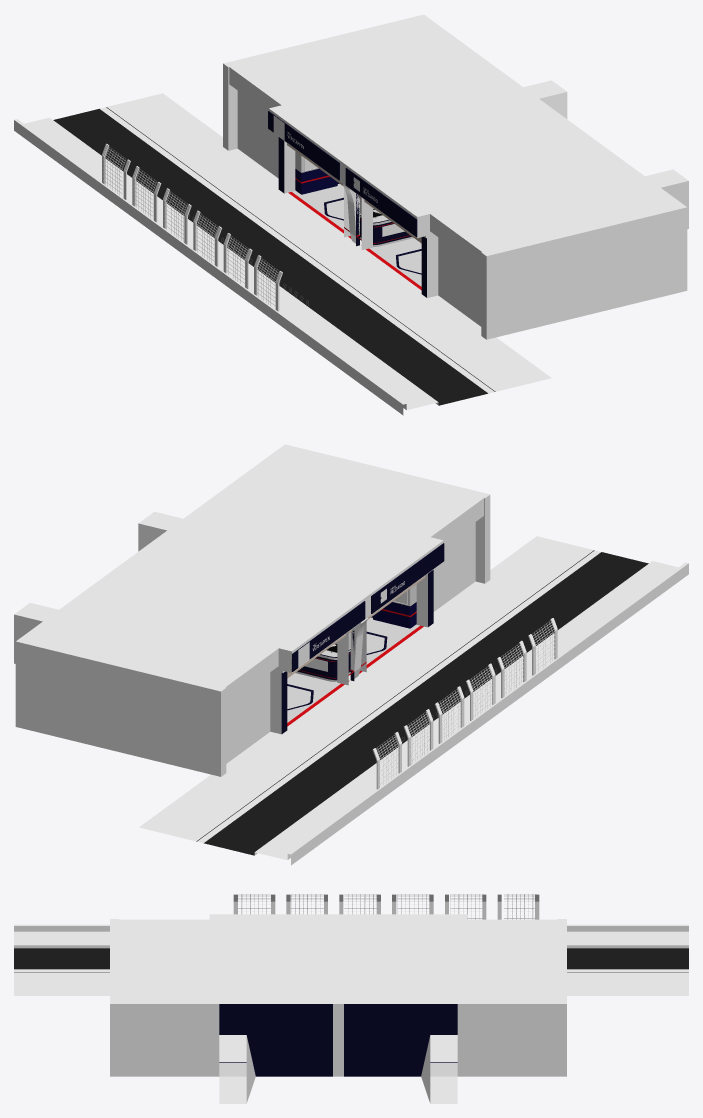
Rendered from garage.glb.
The picture shows the model from 3 angles, top to bottom: view 1: azimuth 30°, elevation 25°; view 2: azimuth 150°, elevation 25°; view 3: azimuth 270°, elevation 25°; orthographic projection. The views are drawn at different scales.
Visible parts, largest first — view 1: Cube_34, Plane_2, Plane.006_6, Cube.003_17, Plane.005_5, Cube.001_9, Cube.006_22; view 2: Cube_34, Plane_2, Plane.006_6, Cube.003_17, Plane.005_5, Cube.001_9, Cube.006_22; view 3: Cube_34, Plane_2, Plane.006_6, Plane.005_5.
Part boxes in pixels (<box>): Cube_34: <box>223,14,688,339</box>; Plane_2: <box>14,93,551,415</box>; Plane.006_6: <box>103,145,278,305</box>; Cube.003_17: <box>268,111,417,237</box>; Plane.005_5: <box>102,143,282,311</box>; Cube.001_9: <box>295,151,339,194</box>; Cube.006_22: <box>360,199,413,246</box>; Cube_34: <box>14,444,490,776</box>; Plane_2: <box>139,536,688,865</box>; Plane.006_6: <box>375,620,555,784</box>; Cube.003_17: <box>291,543,444,671</box>; Plane.005_5: <box>372,618,557,789</box>; Cube.001_9: <box>371,584,416,628</box>; Cube.006_22: <box>295,633,350,681</box>; Cube_34: <box>110,914,566,1103</box>; Plane_2: <box>14,924,688,995</box>; Plane.006_6: <box>238,894,536,919</box>; Plane.005_5: <box>233,894,539,919</box>.
Size of the model in its own units: 261 by 52.67 by 435.
49 materials, 5 textured.
